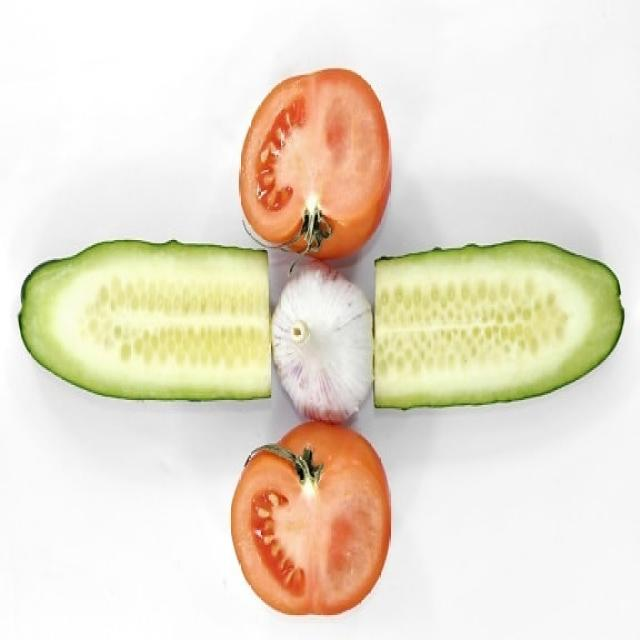cucumber: (19, 231, 275, 413), (374, 244, 623, 424)
garlic: (269, 264, 379, 429)
tomato: (231, 413, 400, 619), (241, 70, 395, 260)
